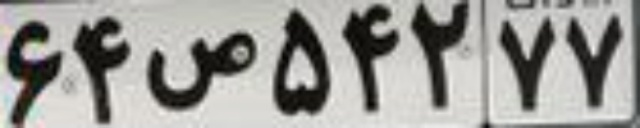2: (410, 0, 472, 110)
4: (340, 2, 404, 113), (70, 14, 133, 125)
5: (274, 5, 330, 115)
6: (8, 18, 63, 124)
7: (566, 11, 623, 109), (498, 16, 555, 112)
saat: (144, 29, 257, 112)
